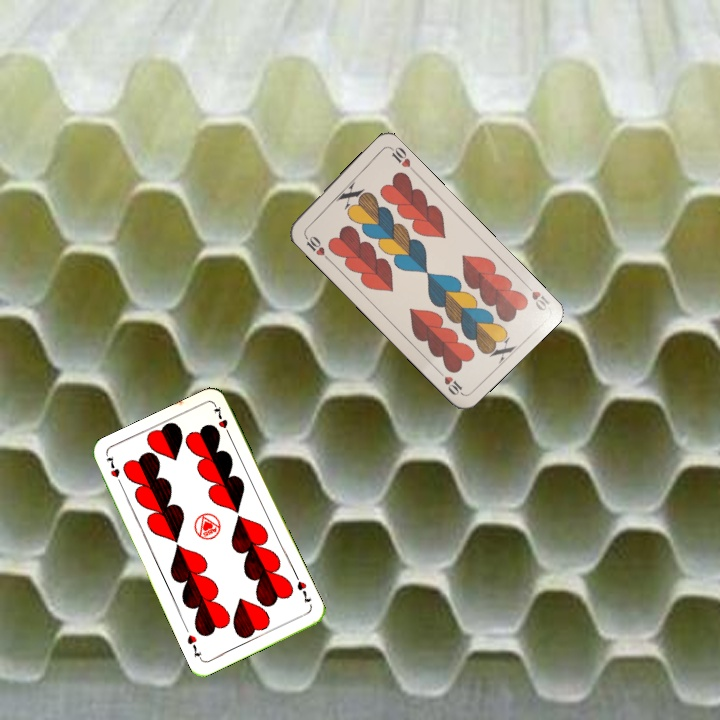H10: (520, 278, 553, 313), (300, 230, 332, 262)
H7: (102, 452, 125, 490), (293, 577, 314, 605)
